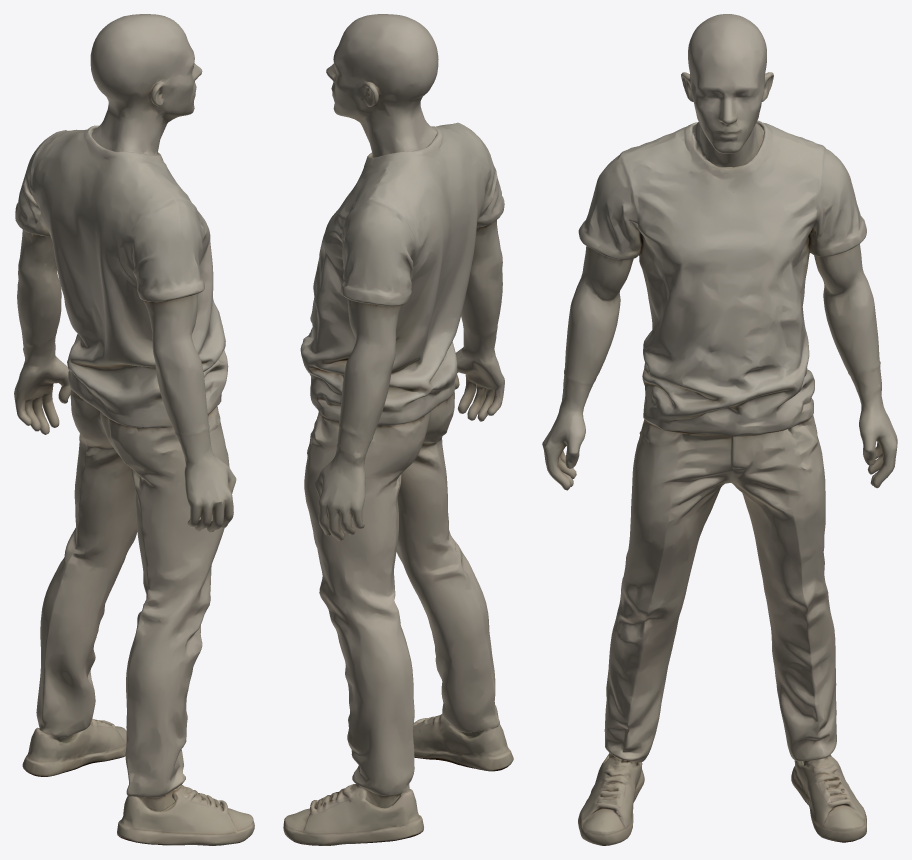
The model's file is homme-prototype.glb.
3 views of the same model, side by side, from view 1: azimuth 30°, elevation 25°; view 2: azimuth 150°, elevation 25°; view 3: azimuth 270°, elevation 25° (orthographic). The views are drawn at different scales.
Parts seen in each view (by area): view 1: tripo_node_813cb525-25a2-4841-a47f-561e47d7e20b; view 2: tripo_node_813cb525-25a2-4841-a47f-561e47d7e20b; view 3: tripo_node_813cb525-25a2-4841-a47f-561e47d7e20b.
Boxes of the visible parts, x1,y1,x2,y2 form: tripo_node_813cb525-25a2-4841-a47f-561e47d7e20b: [14, 14, 254, 845]; tripo_node_813cb525-25a2-4841-a47f-561e47d7e20b: [283, 14, 513, 845]; tripo_node_813cb525-25a2-4841-a47f-561e47d7e20b: [542, 14, 897, 845].
Bounding box in the file's own units: 0.362 × 1.8 × 0.7224.
1 material, 1 textured.
